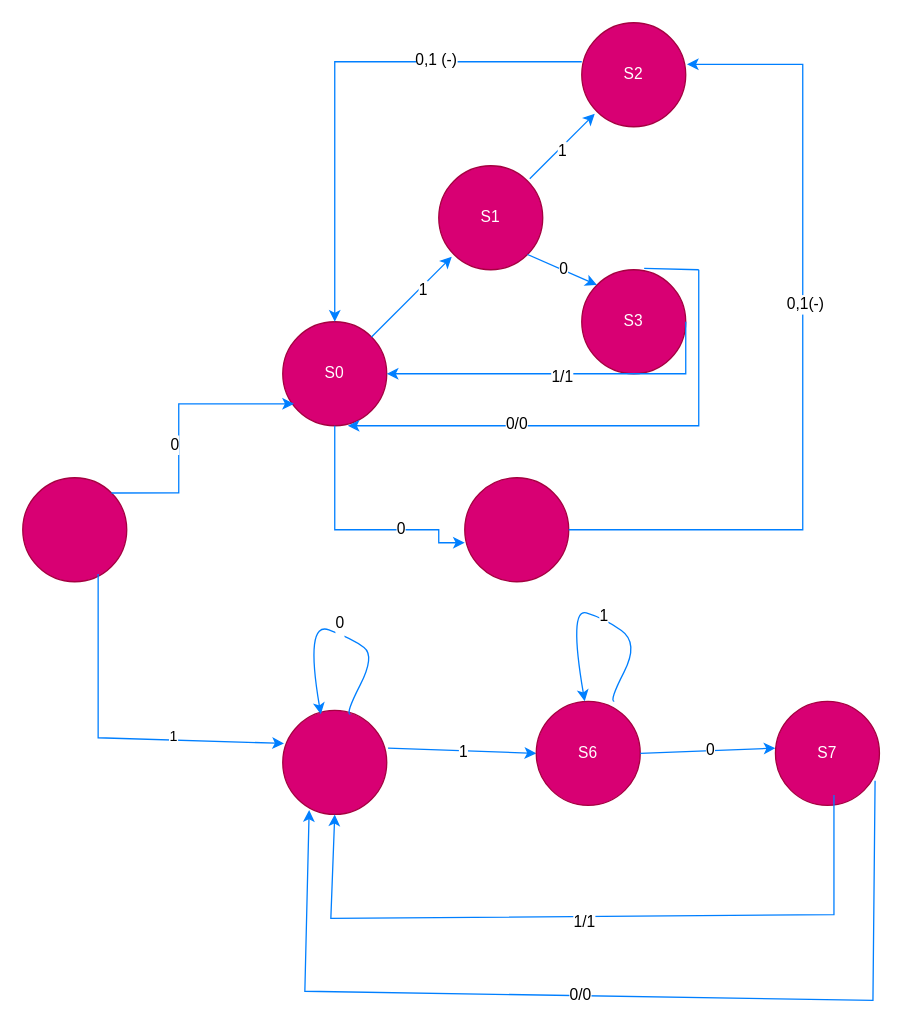
Some shapes in this 909 by 1034 pixel diagram are drawn without their labels. Here are the shapes that lost their labels. From the top down, the centre of each, then its label:
At point 74,529: "SM".
At point 516,529: "S4".
At point 334,761: "S5".
